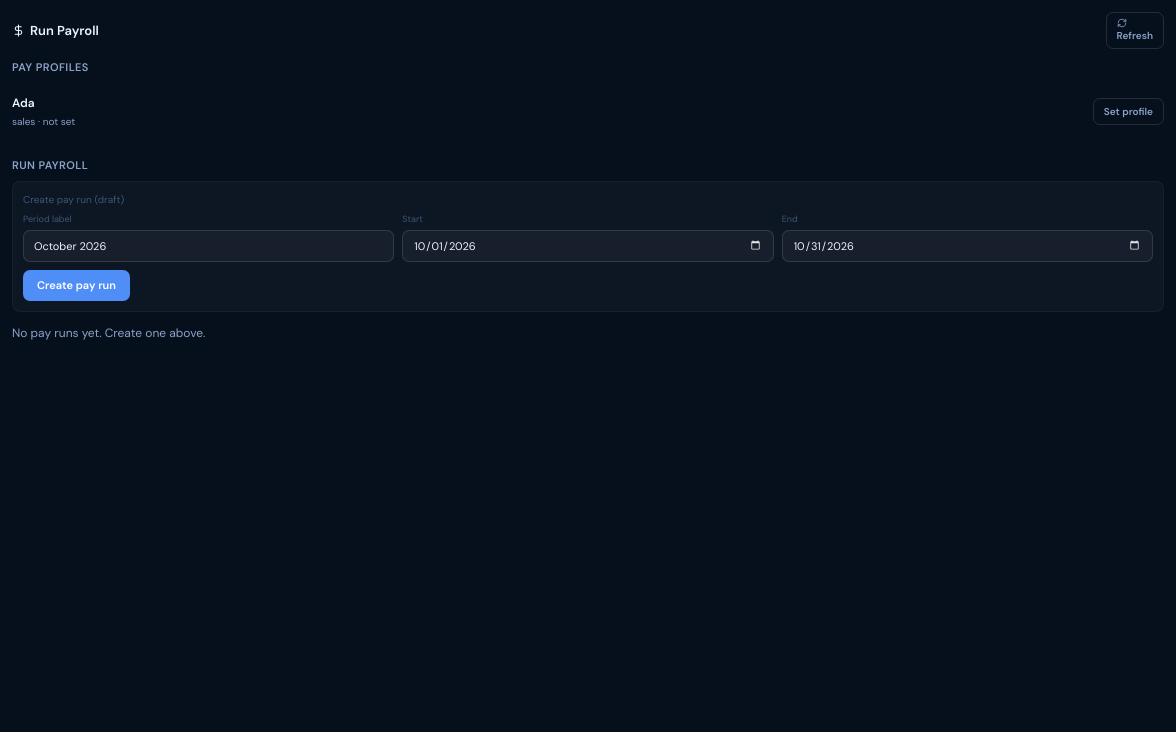
Scenario: PayrollAdmin allowances gate › shows the save-profile note instead of the editor when there is no profileId
The width and height of the screenshot is (1176, 732).
Step 1. Click the button "Set profile" → (1128, 111), box [1093,98,1164,124]
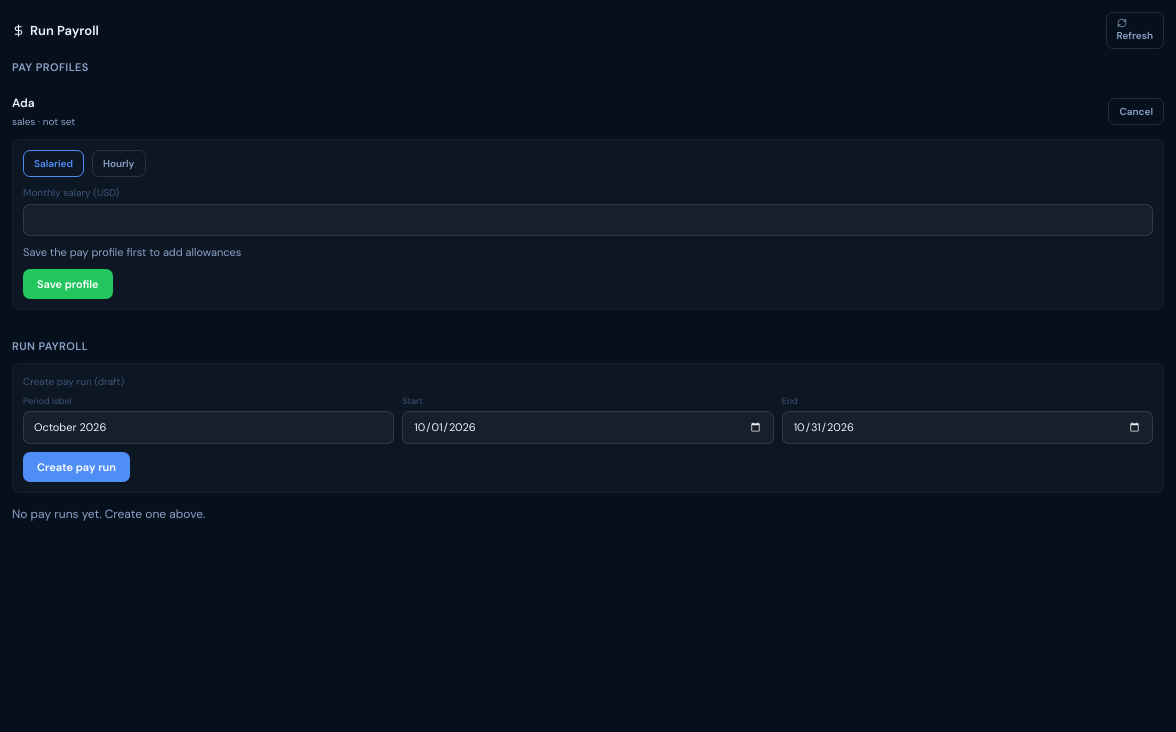
Expected: the text "Save the pay profile first to add allowances" is shown, [23,245,241,259]
